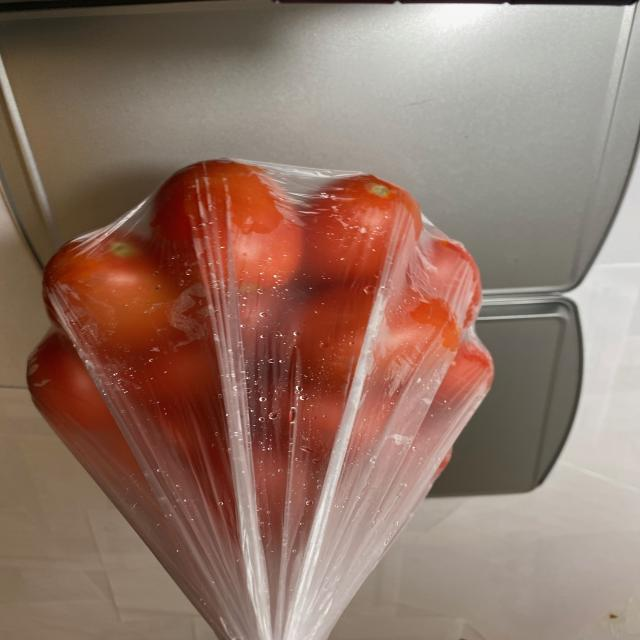tomato: (33, 152, 489, 522)
